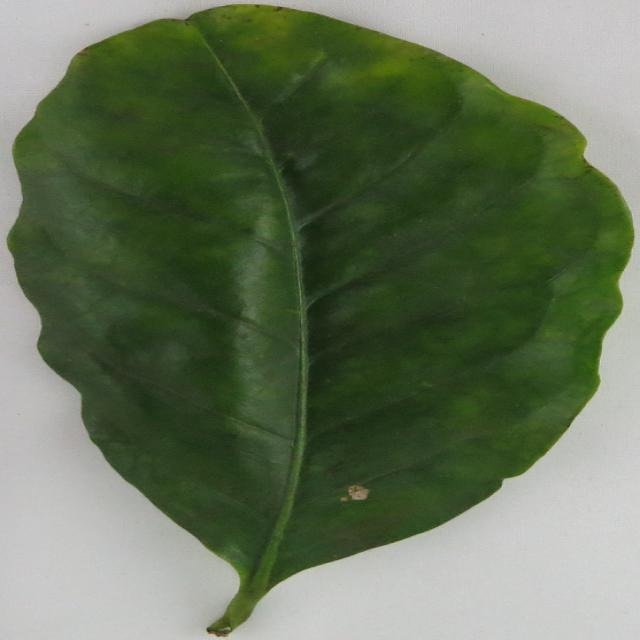DeficienciaNutricional-Boro: (9, 5, 630, 636)
